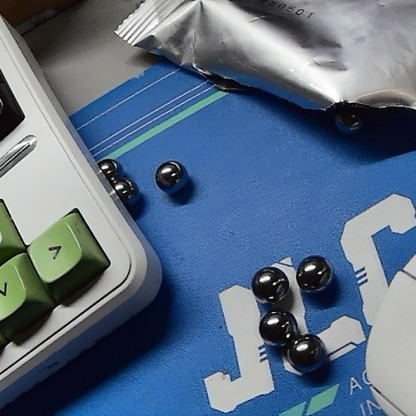ironball: (248, 251, 294, 304), (326, 97, 370, 143), (296, 253, 336, 294), (253, 305, 293, 345), (156, 154, 187, 197), (288, 336, 323, 369), (105, 177, 141, 207), (91, 152, 122, 181)
